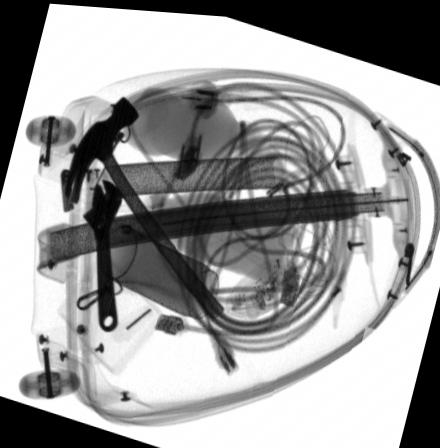Hammer: (63, 93, 227, 317)
Wrench: (81, 176, 122, 332)
